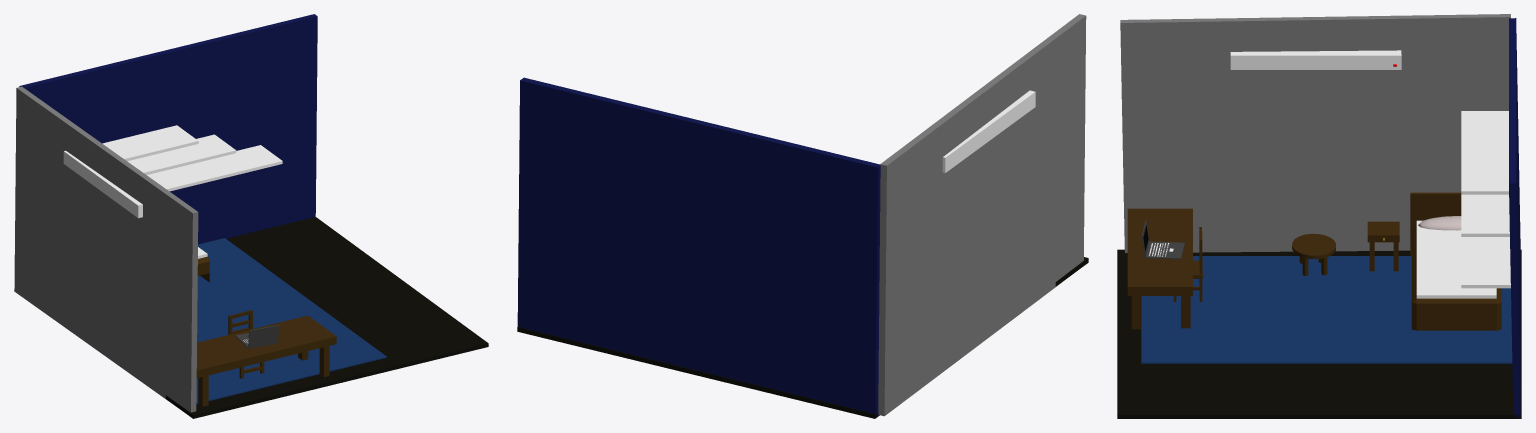
File: quarto.glb
3 views of the same model, side by side, from view 1: azimuth 30°, elevation 25°; view 2: azimuth 150°, elevation 25°; view 3: azimuth 270°, elevation 25° (orthographic). The views are drawn at different scales.
Parts seen in each view (by area): view 1: Object_4, Object_6, Object_12, Object_2, Object_19, Object_3, Object_9, Object_18, Object_17; view 2: Object_6, Object_4, Object_12, Object_9; view 3: Object_4, Object_2, Object_12, Object_19, Object_3, Object_6, Object_8, Object_16, Object_9, Object_17, Object_7, Object_15 (+2 smaller).
Boxes of the visible parts, x1,y1,x2,y2 form: Object_4: (14, 86, 198, 412); Object_6: (19, 14, 317, 244); Object_12: (166, 217, 488, 418); Object_2: (196, 238, 386, 404); Object_19: (102, 125, 282, 191); Object_3: (196, 315, 336, 406); Object_9: (63, 150, 142, 218); Object_18: (235, 325, 279, 348); Object_17: (228, 310, 264, 378); Object_6: (517, 77, 880, 416); Object_4: (878, 14, 1086, 416); Object_12: (517, 257, 1088, 418); Object_9: (942, 90, 1035, 172); Object_4: (1120, 14, 1510, 253); Object_2: (1141, 256, 1512, 363); Object_12: (1117, 249, 1521, 418); Object_19: (1461, 111, 1510, 288); Object_3: (1127, 208, 1192, 329); Object_6: (1509, 18, 1520, 418); Object_8: (1416, 220, 1496, 298); Object_16: (1411, 224, 1501, 330); Object_9: (1230, 50, 1401, 69); Object_17: (1173, 221, 1399, 301); Object_7: (1410, 192, 1461, 255); Object_15: (1292, 233, 1335, 275).
Size of the model in its own units: 7.57 by 5.06 by 7.68.
